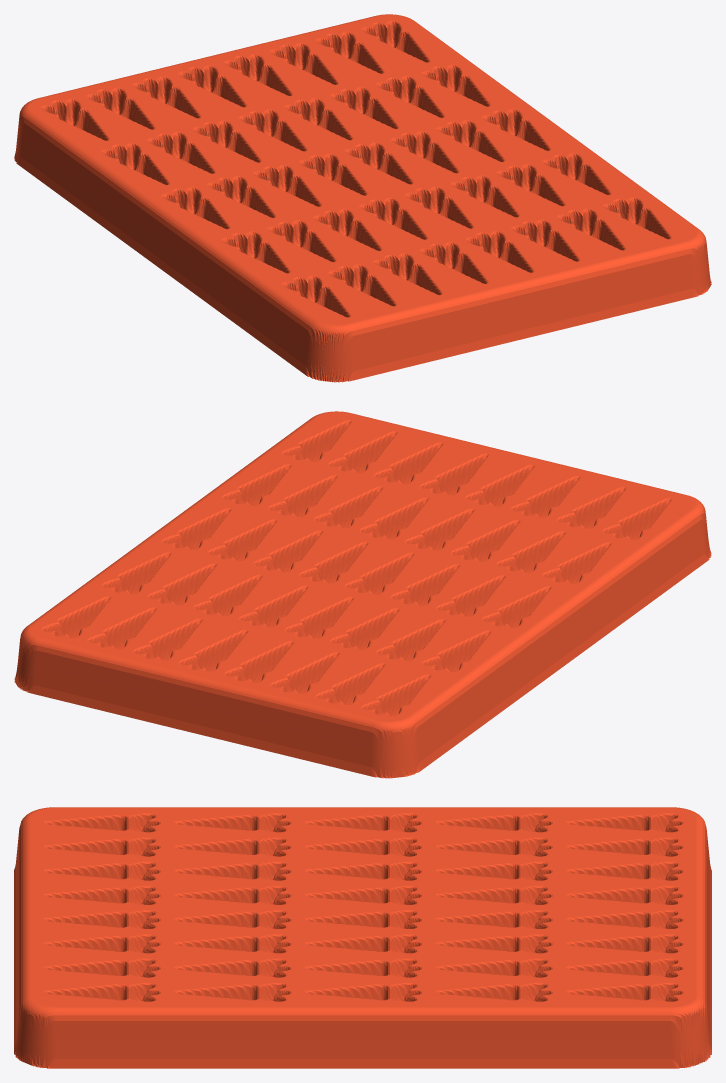
The model's file is mold.glb.
3 views of the same model, one above another, from view 1: azimuth 30°, elevation 25°; view 2: azimuth 150°, elevation 25°; view 3: azimuth 270°, elevation 25° (orthographic). The views are drawn at different scales.
Visible parts, largest first — view 1: geometry_0; view 2: geometry_0; view 3: geometry_0.
Part boxes in pixels (x1=…): geometry_0: x1=14, y1=14, x2=711, y2=382; geometry_0: x1=14, y1=411, x2=711, y2=778; geometry_0: x1=14, y1=807, x2=711, y2=1068.
Size of the model in its own units: 0.1132 by 0.0136 by 0.1571.
